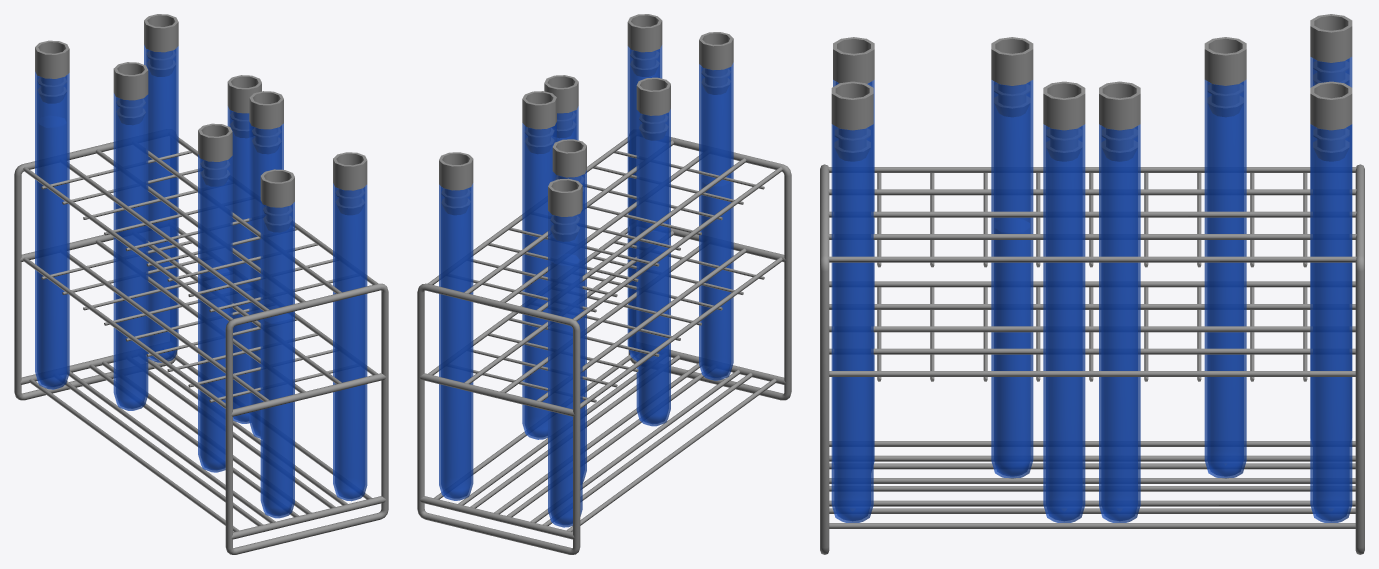
Rendered from SM_Test_Tube_Pattern1_LOD0.FBX.
3 renders of one model, left to right at view 1: azimuth 30°, elevation 25°; view 2: azimuth 150°, elevation 25°; view 3: azimuth 270°, elevation 25°, orthographic. The views are drawn at different scales.
Visible parts, largest first — view 1: SM_Test_Tube_Pattern01; view 2: SM_Test_Tube_Pattern01; view 3: SM_Test_Tube_Pattern01.
Part boxes in pixels (<box>): SM_Test_Tube_Pattern01: <box>14,14,388,554</box>; SM_Test_Tube_Pattern01: <box>417,14,791,554</box>; SM_Test_Tube_Pattern01: <box>820,14,1364,554</box>.
Size of the model in its own units: 0.0861 by 0.1812 by 0.198.
